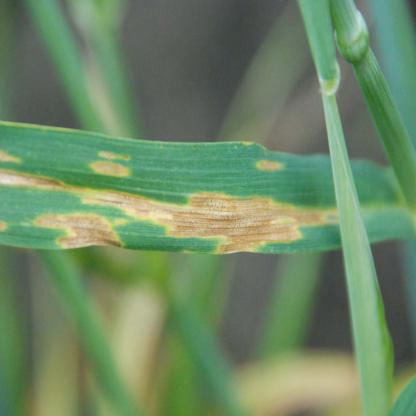Corn leaf blight: (3, 115, 416, 271)
